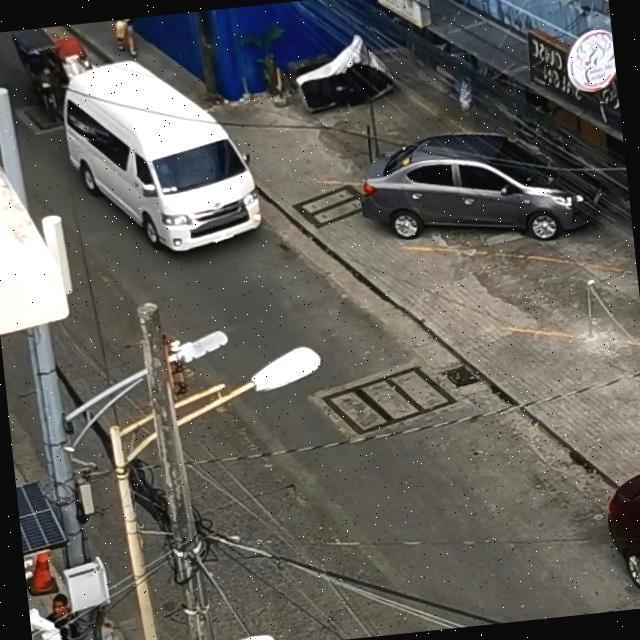Tricycle: (12, 24, 94, 120)
